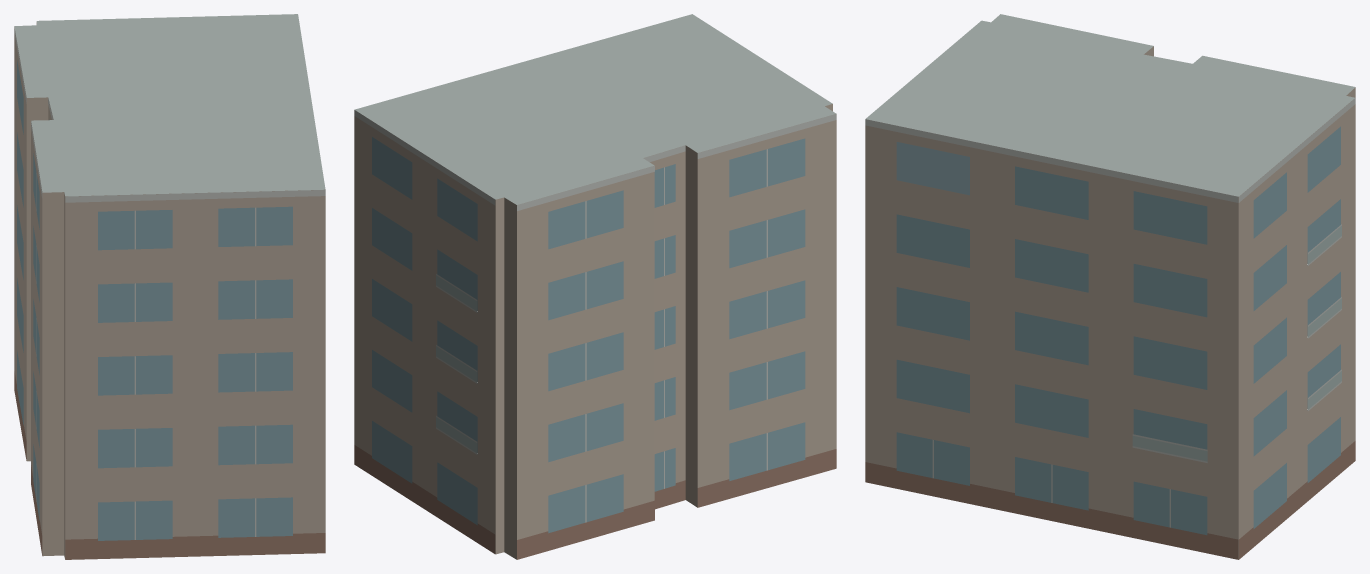
Rendered from survey-upis-32894323.glb.
The picture shows the model from 3 angles, left to right: view 1: azimuth 30°, elevation 25°; view 2: azimuth 150°, elevation 25°; view 3: azimuth 270°, elevation 25°; orthographic projection. The views are drawn at different scales.
Parts seen in each view (by area): view 1: survey-upis-32894323.tmp; view 2: survey-upis-32894323.tmp; view 3: survey-upis-32894323.tmp.
Part boxes in pixels (left/top/right/bottom): survey-upis-32894323.tmp: left=14, top=14, right=325, bottom=559; survey-upis-32894323.tmp: left=354, top=14, right=836, bottom=559; survey-upis-32894323.tmp: left=865, top=14, right=1355, bottom=559.
Bounding box in the file's own units: 15.23 × 14.1 × 17.27.
